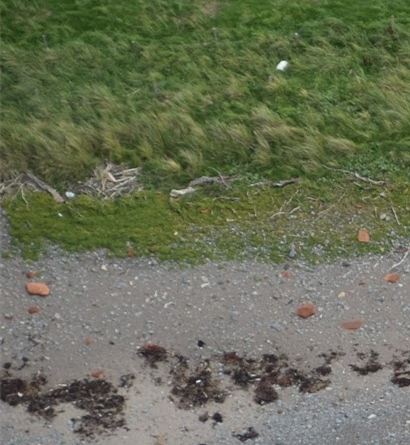scattered_barrel: (271, 223, 410, 335)
white_in_green: (4, 254, 80, 323), (251, 39, 314, 91)
